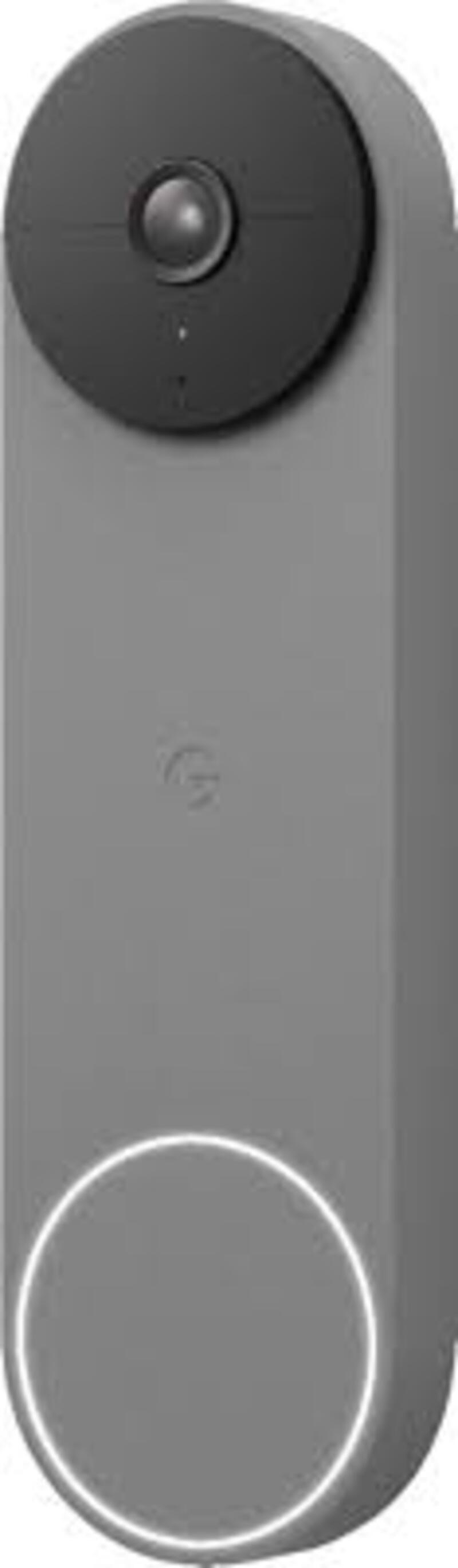doorbell: (0, 0, 454, 1567)
